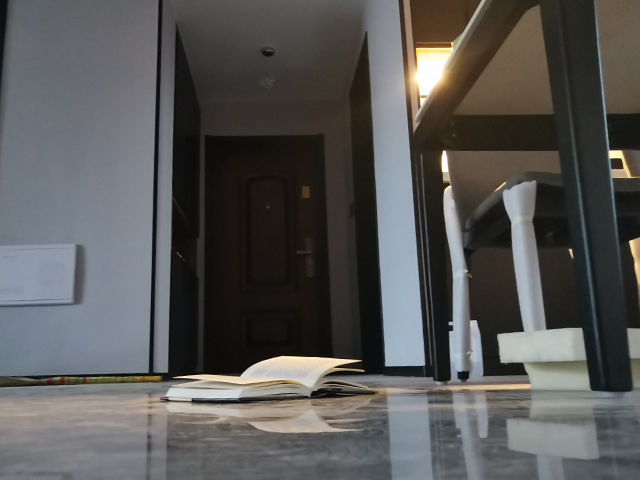book: (158, 353, 379, 405)
stool: (442, 123, 640, 384)
table: (408, 1, 640, 394)
